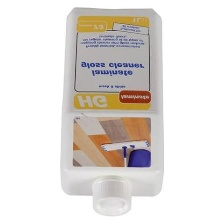cleaning_solution: (57, 4, 166, 217)
